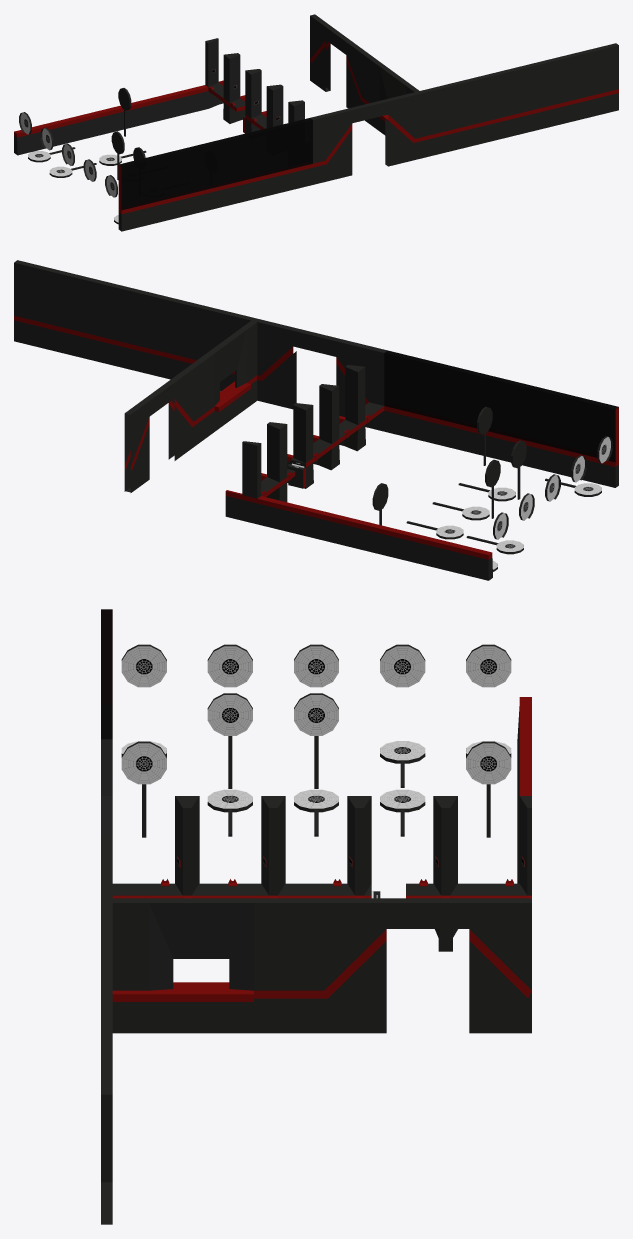
The model's file is Armory_Shooting_Range.fbx.
3 renders of one model, top to bottom at view 1: azimuth 30°, elevation 25°; view 2: azimuth 150°, elevation 25°; view 3: azimuth 270°, elevation 25°, orthographic. The views are drawn at different scales.
Visible parts, largest first — view 1: Armory_Shooting_Range; view 2: Armory_Shooting_Range; view 3: Armory_Shooting_Range.
Part boxes in pixels (x1,y1,x2,y2): Armory_Shooting_Range: (14, 14, 618, 231); Armory_Shooting_Range: (14, 260, 618, 580); Armory_Shooting_Range: (101, 609, 531, 1224).
Bounding box in the file's own units: 40.01 × 15 × 5.02.
